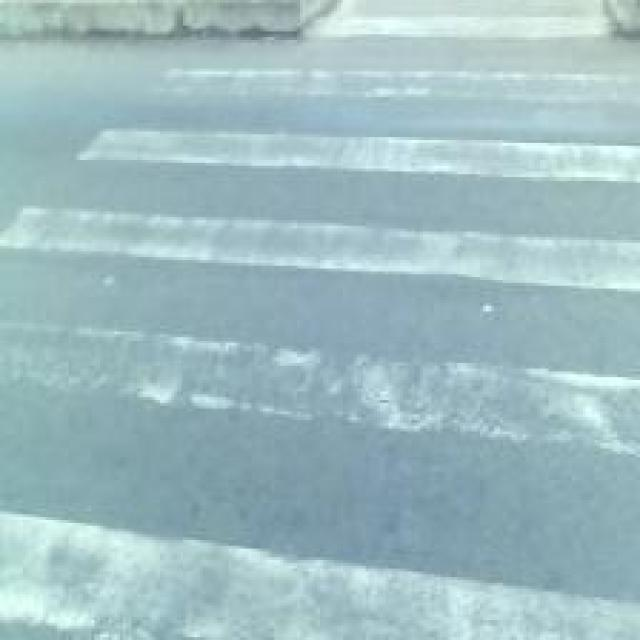walk-crossing: (48, 57, 616, 640)
